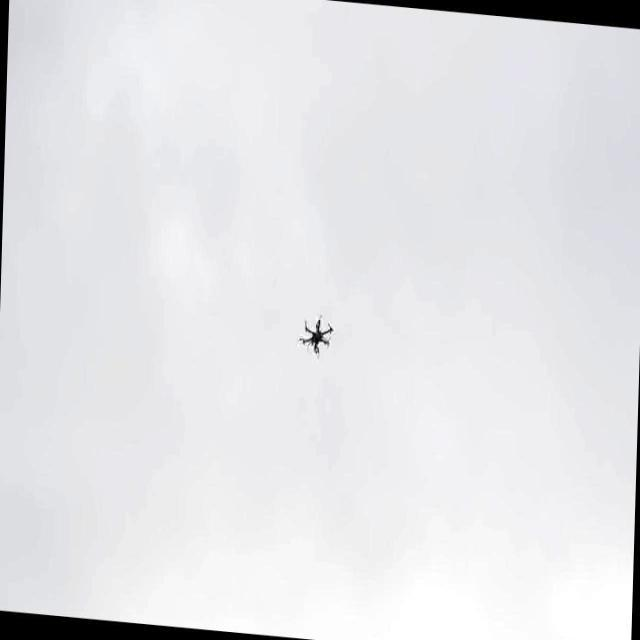drone: (292, 310, 336, 364)
